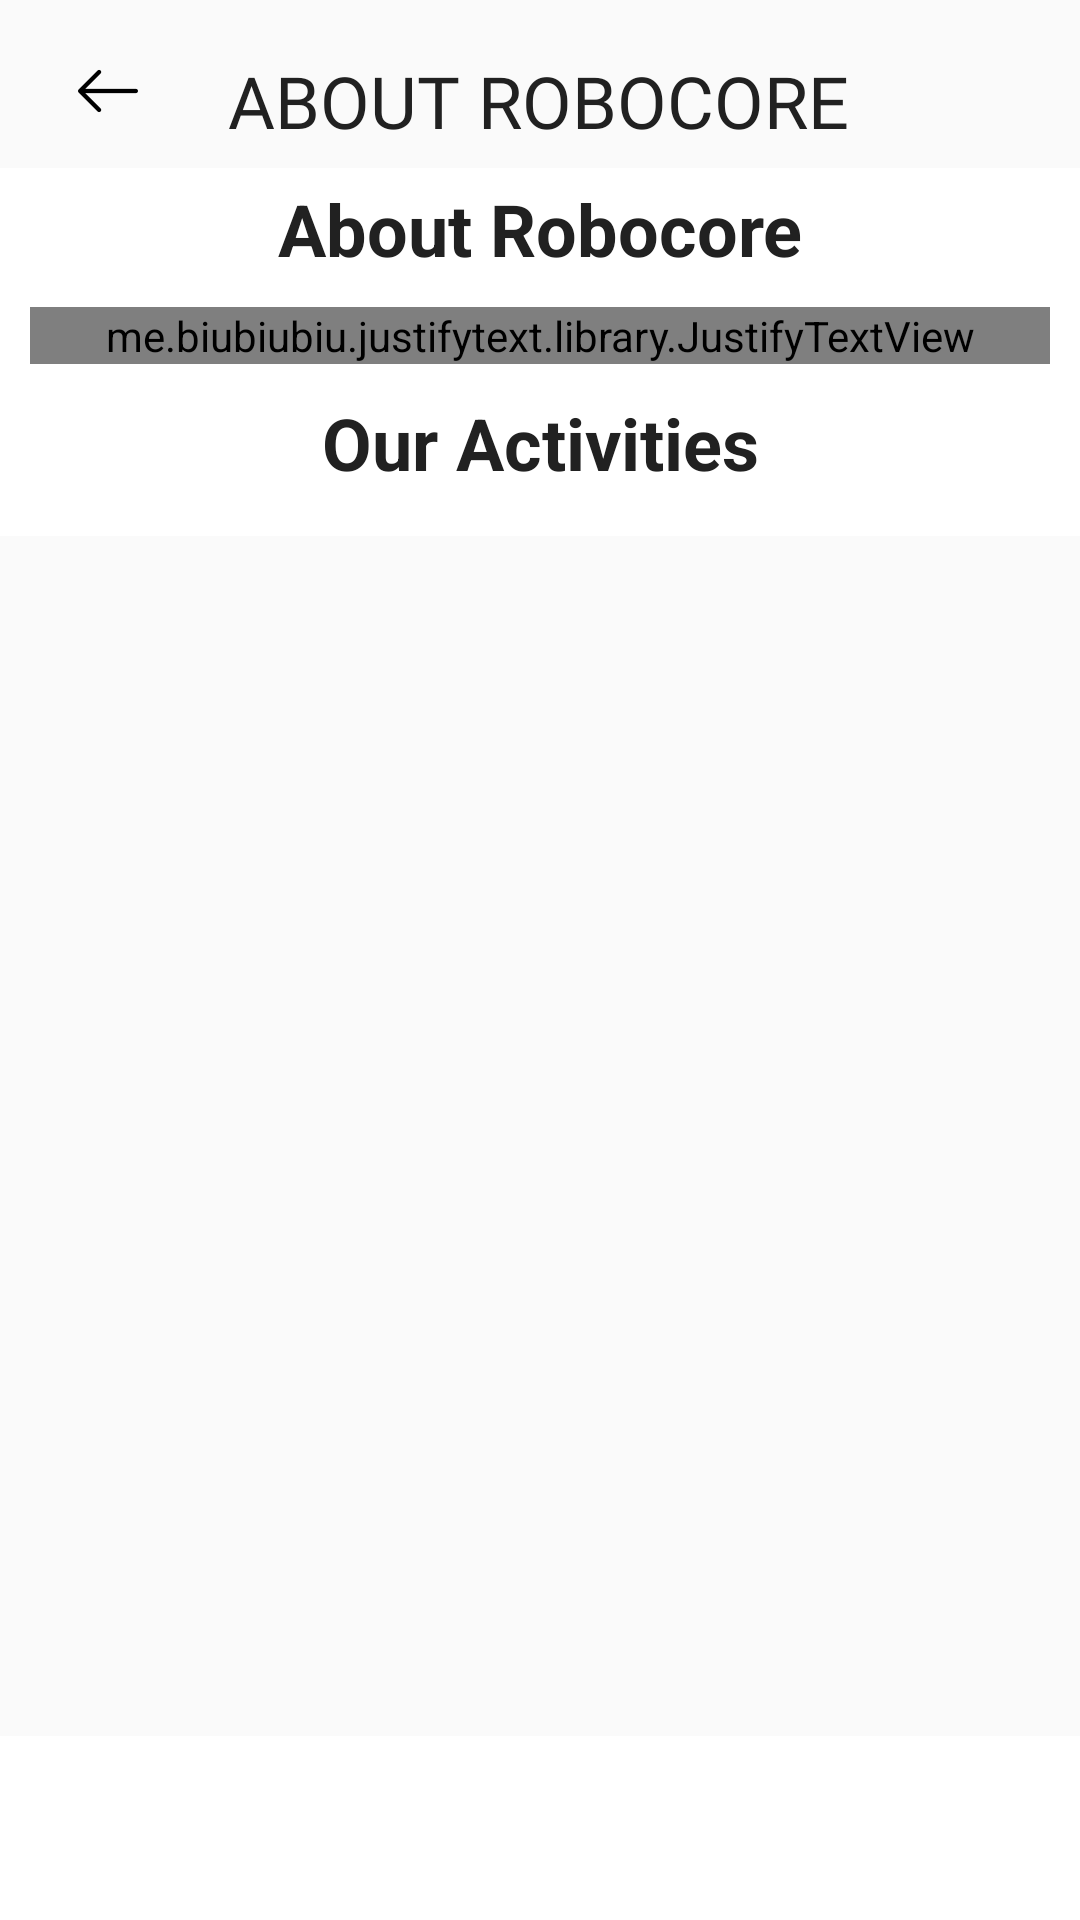

Locate icon controls on the screen. Image size 1080*1920, boxes as (x1, y1, x2, y2).
left: (78, 70, 138, 112)
